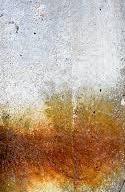Corrosion: (1, 86, 125, 192)
